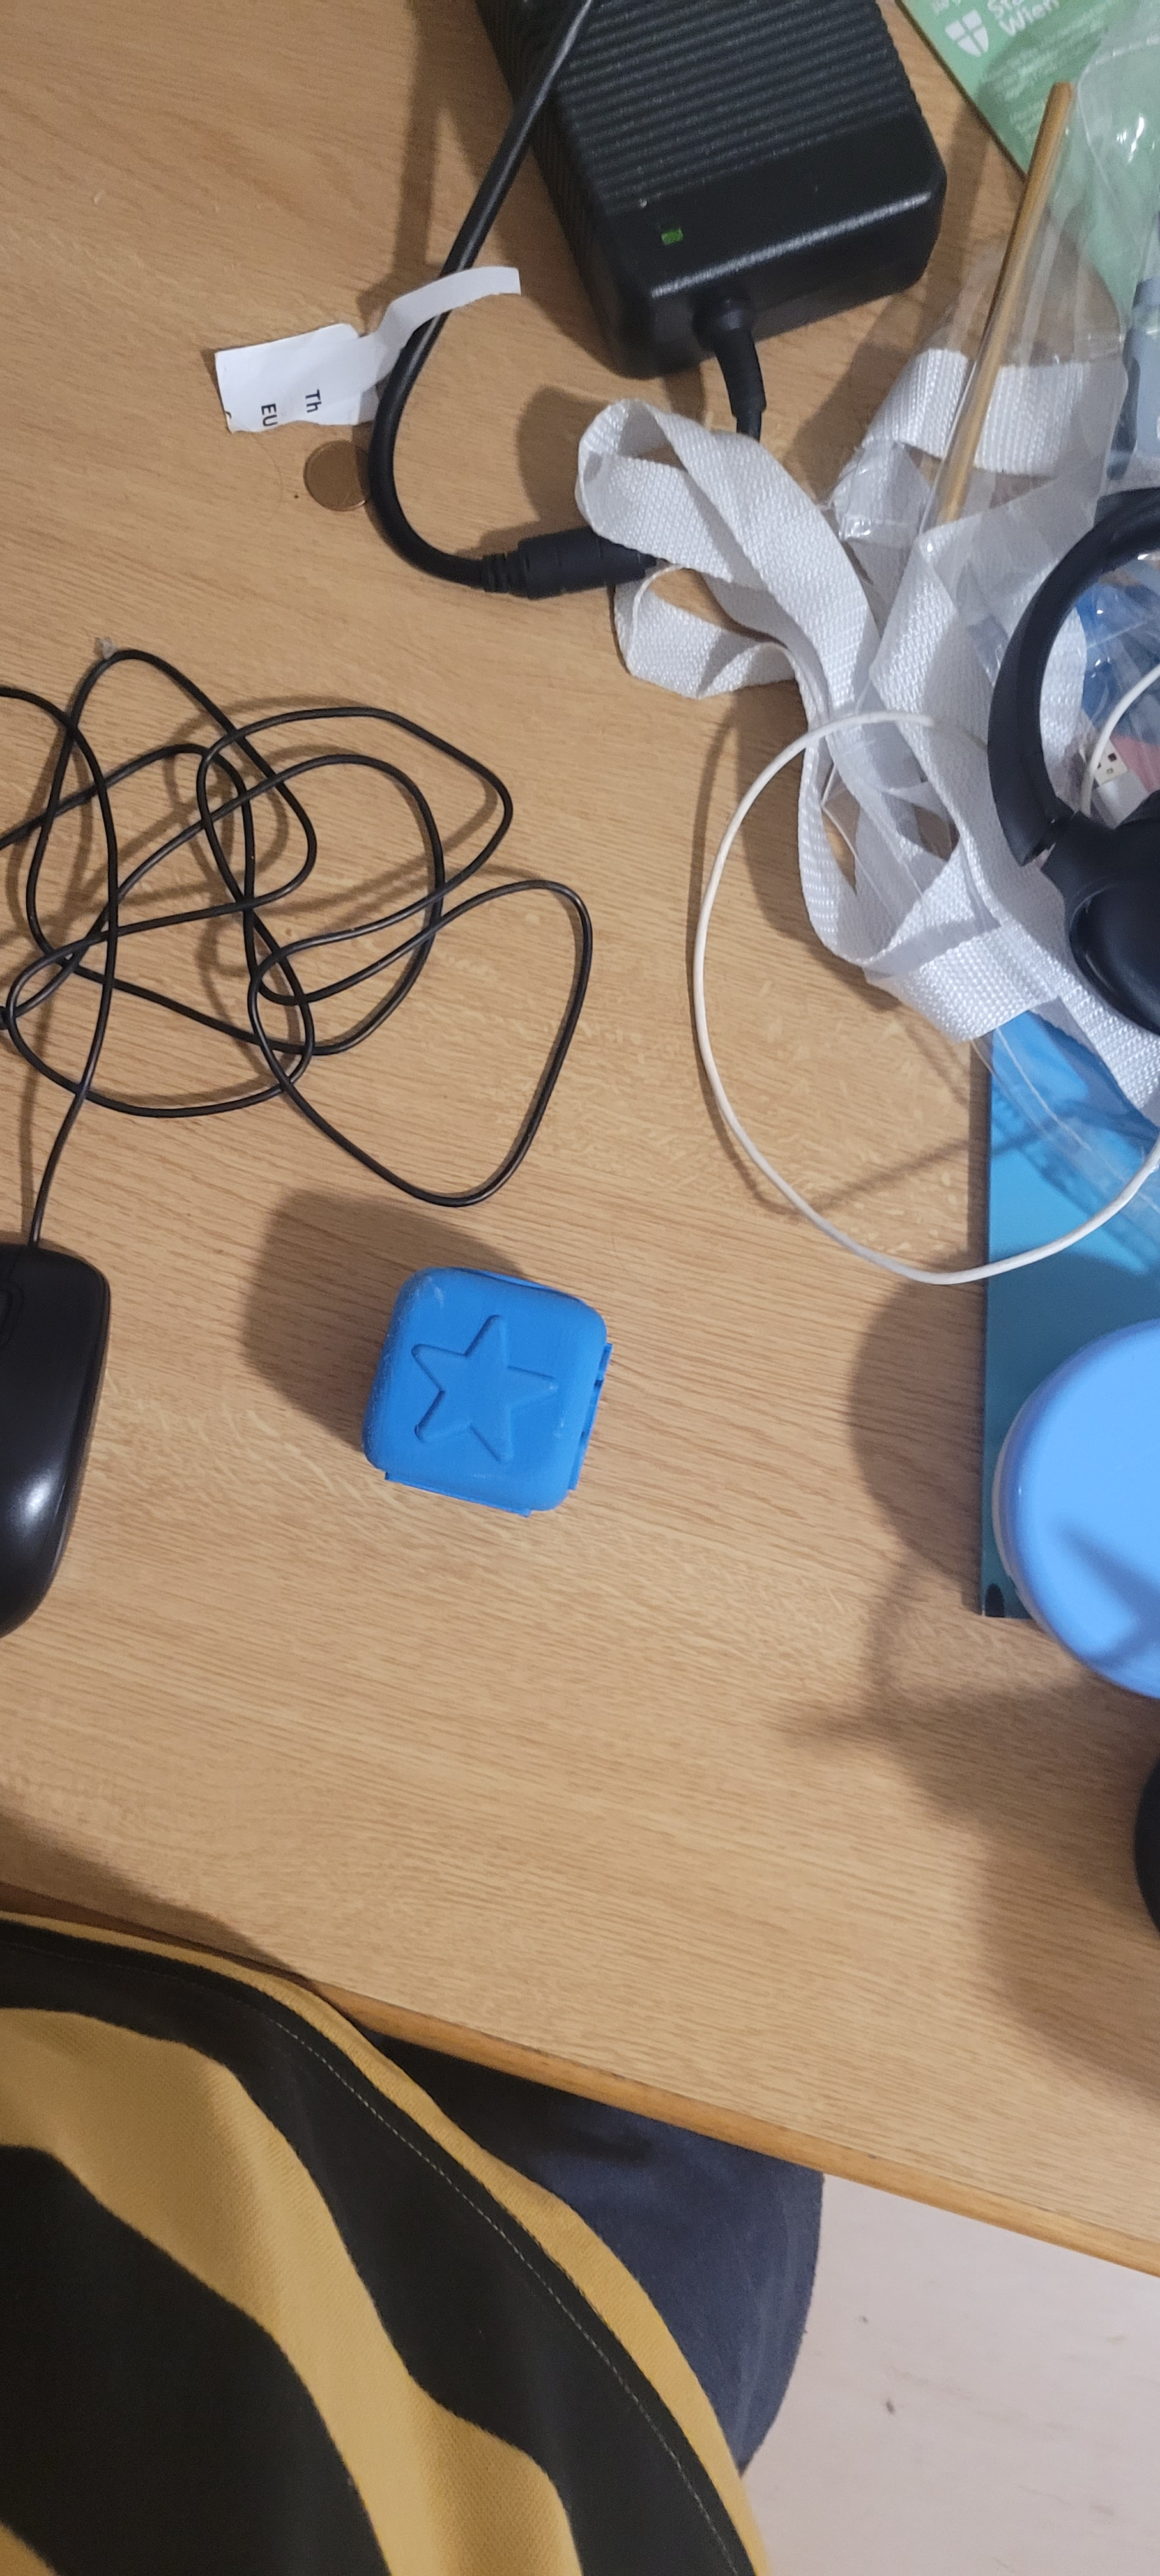Star: (403, 1265, 603, 1487)
